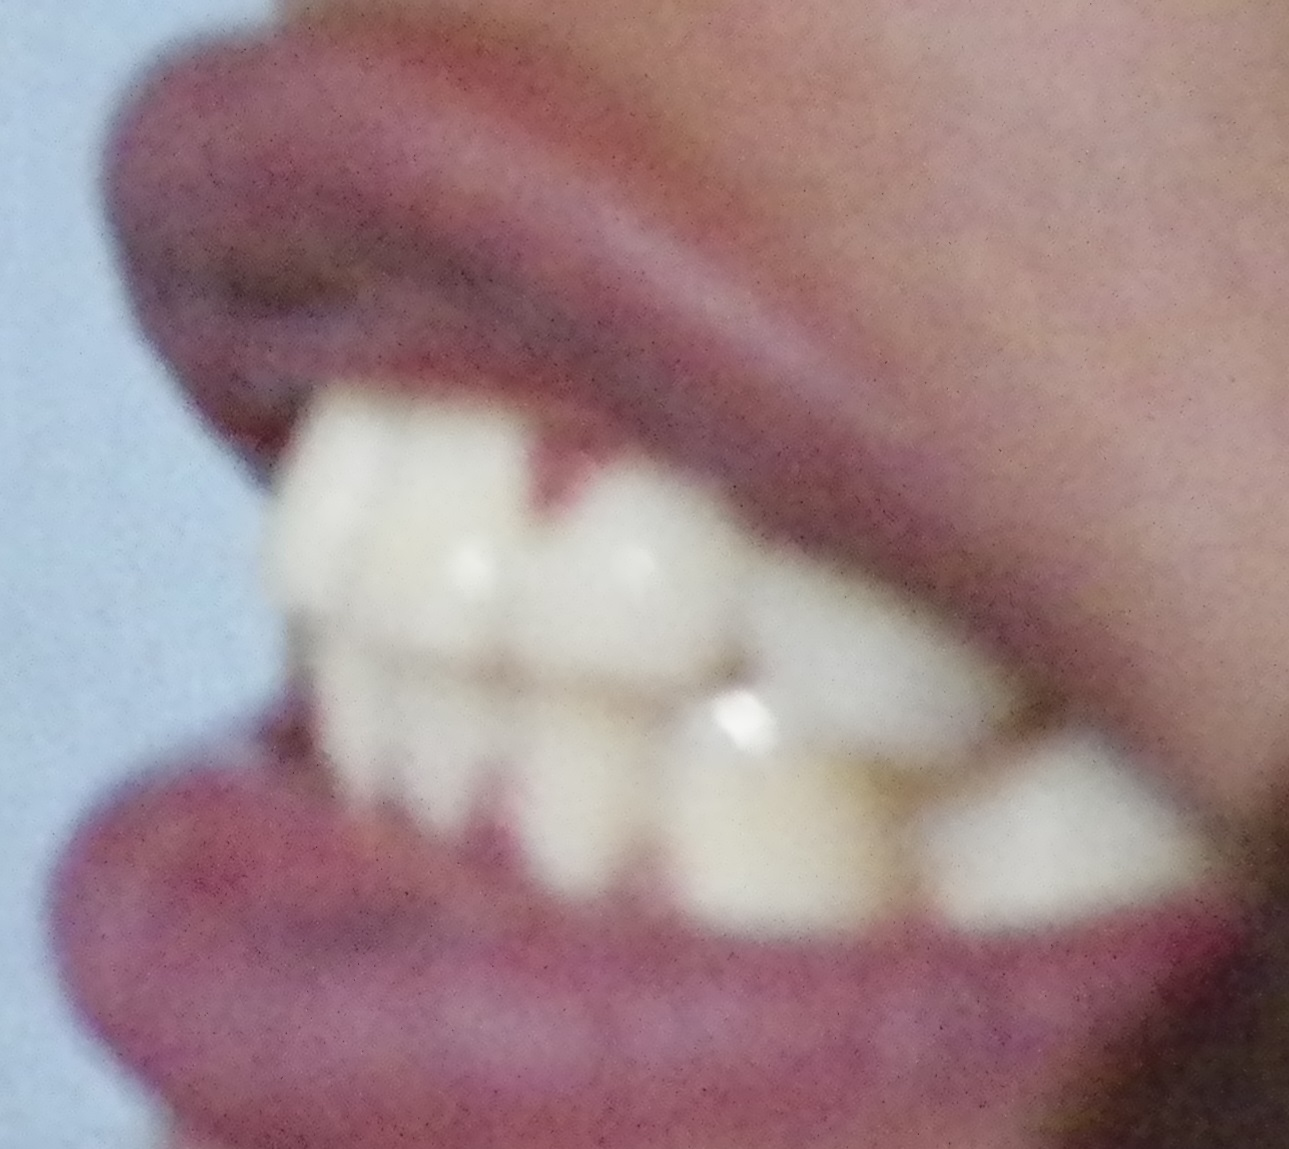boca: (262, 404, 1204, 899)
